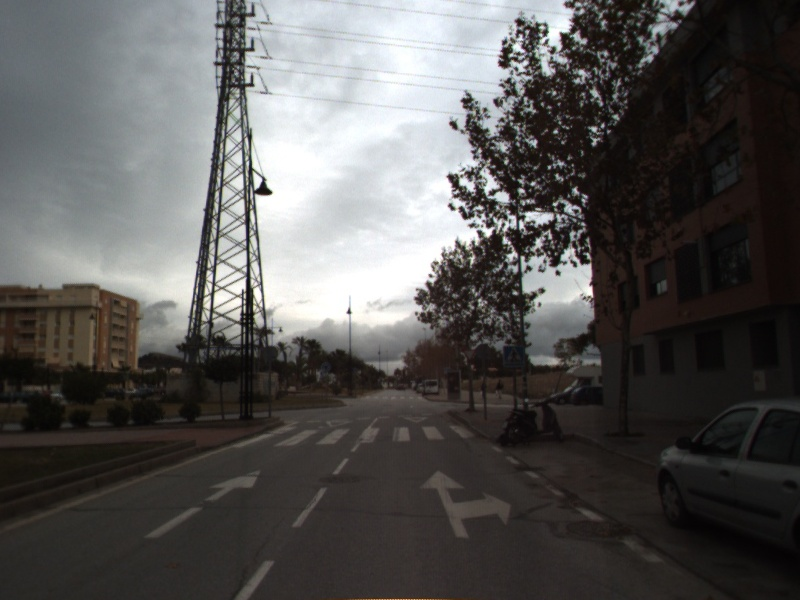STRAIGHT: (141, 467, 263, 540)
STRAIGHT_RIGHT: (417, 468, 513, 540)
